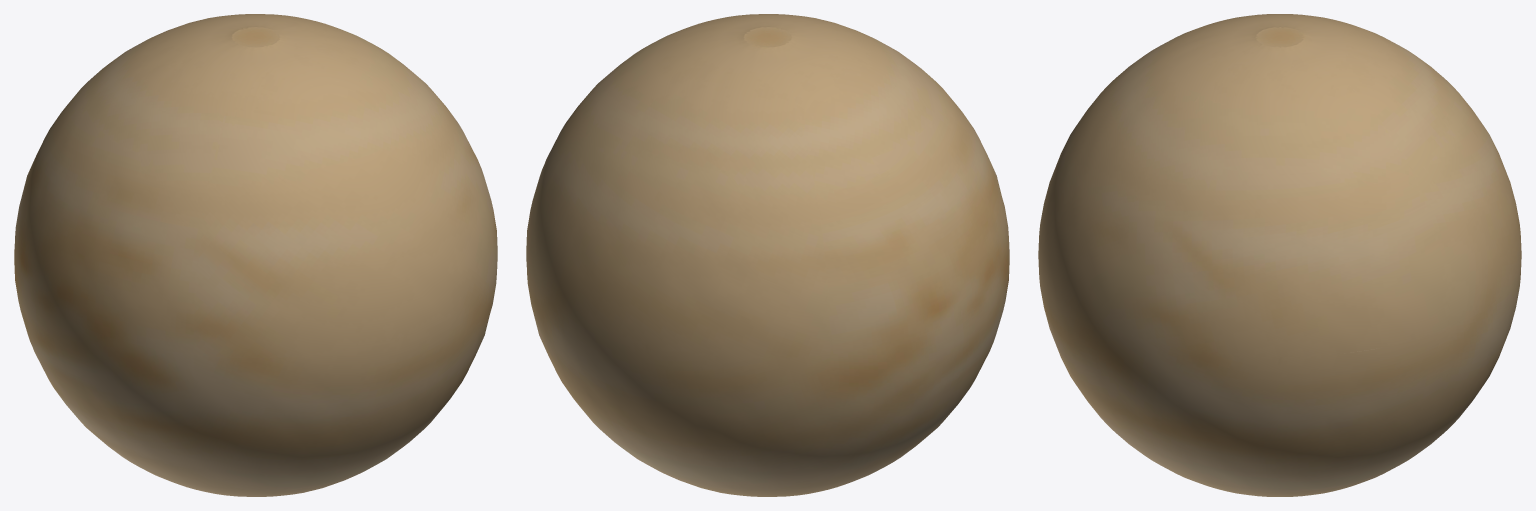
Rendered from venus.glb.
3 renders of one model, left to right at view 1: azimuth 30°, elevation 25°; view 2: azimuth 150°, elevation 25°; view 3: azimuth 270°, elevation 25°, orthographic.
Parts seen in each view (by area): view 1: Photoreal Smooth Venus; view 2: Photoreal Smooth Venus; view 3: Photoreal Smooth Venus.
Part boxes in pixels (left/top/right/bottom): Photoreal Smooth Venus: left=14, top=14, right=497, bottom=496; Photoreal Smooth Venus: left=526, top=14, right=1009, bottom=496; Photoreal Smooth Venus: left=1038, top=14, right=1521, bottom=496.
Bounding box in the file's own units: 0.998 × 0.998 × 0.998.
1 material, 1 textured.
